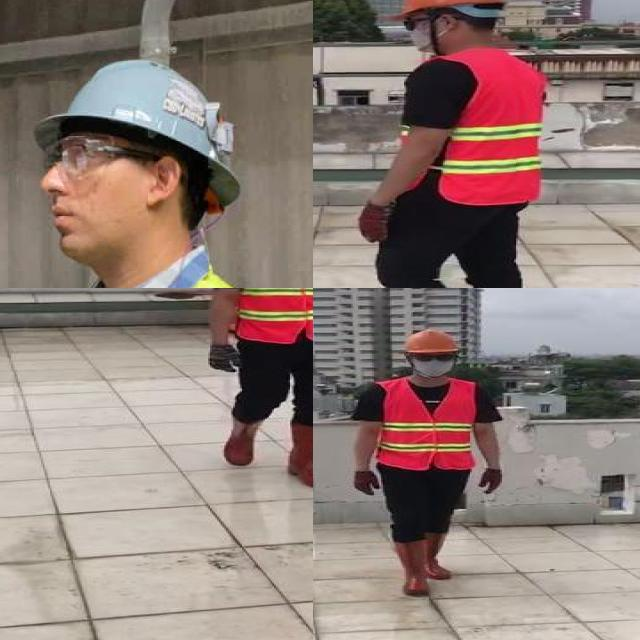No_Ear-Protection: (147, 152, 183, 208)
boots: (393, 538, 431, 596), (222, 418, 264, 467), (286, 422, 313, 488), (423, 531, 458, 579)
face_mask: (410, 352, 456, 376)
glasses: (410, 351, 458, 364)
hand_glove: (358, 202, 395, 242), (208, 341, 244, 373), (353, 468, 383, 497), (479, 468, 502, 496)
head_helmet: (391, 0, 507, 18), (401, 328, 461, 354)
person: (350, 0, 553, 288), (350, 324, 508, 603), (200, 288, 313, 491)
vest: (400, 52, 542, 204), (381, 377, 474, 470), (240, 288, 313, 343)
